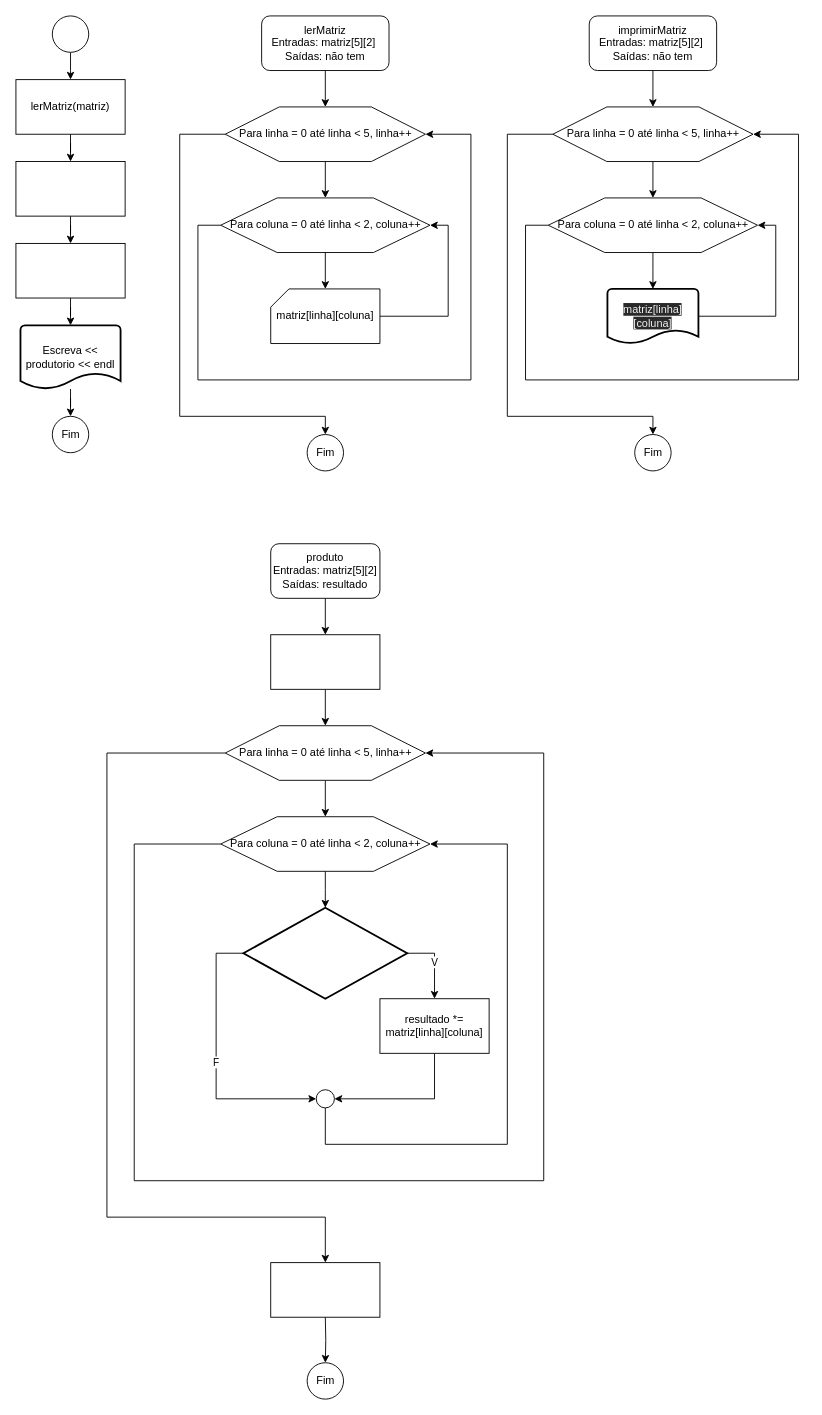
The diagram is 822 pixels wide and 1415 high, and some of its shapes have lost their labels. Each missing label, with the centre of its shape:
"(matriz[linha][coluna] != 0)" goes at (325,952).
"imprimirMatriz(matriz)" goes at (70,188).
"Início" goes at (70,33).
"produtorio = produto(matriz)" goes at (70,270).
"resultado = 1" goes at (325,661).
"Retorna resultado" goes at (325,1289).
